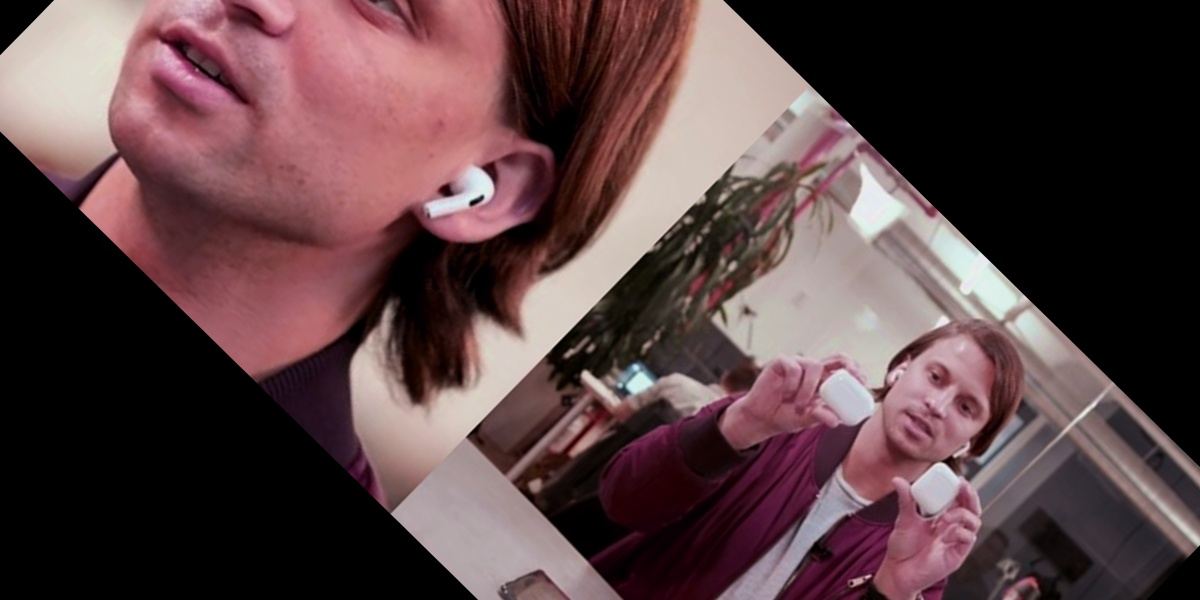earphone: (402, 104, 577, 279), (880, 353, 920, 393), (949, 427, 988, 467)
